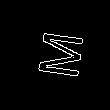M_W: (27, 28, 83, 82)
